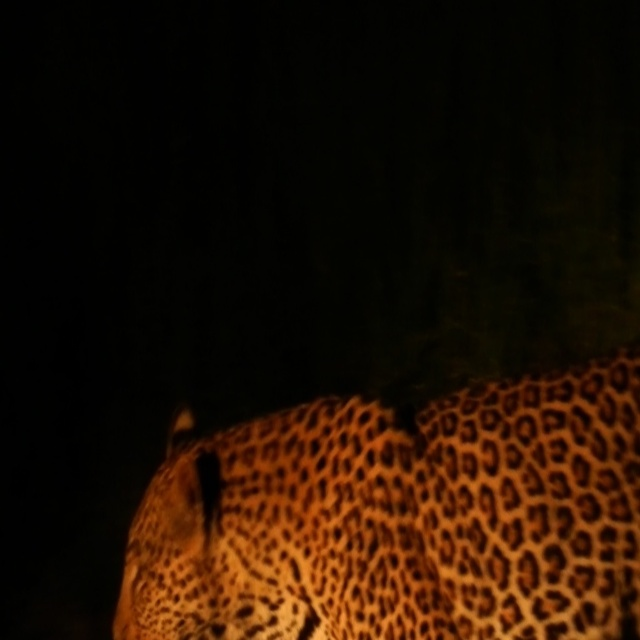Jaguar: (111, 340, 640, 637)
